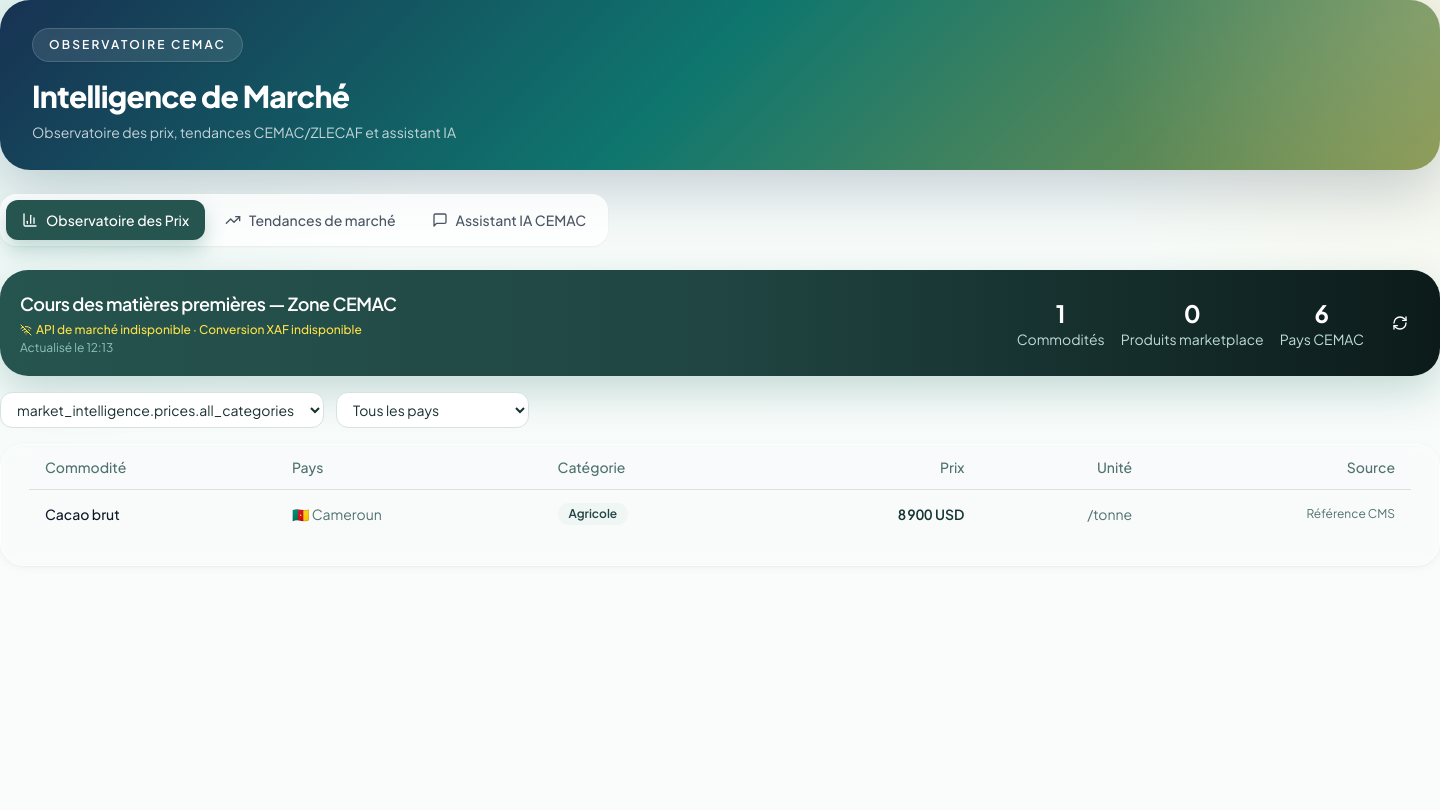
Test: MarketIntelligencePage — assistant tab › sends a message when clicking a suggestion
This screenshot has width=1440, height=810.
Click the button "Assistant IA CEMAC" at point(509, 220), box [416,200,602,240]
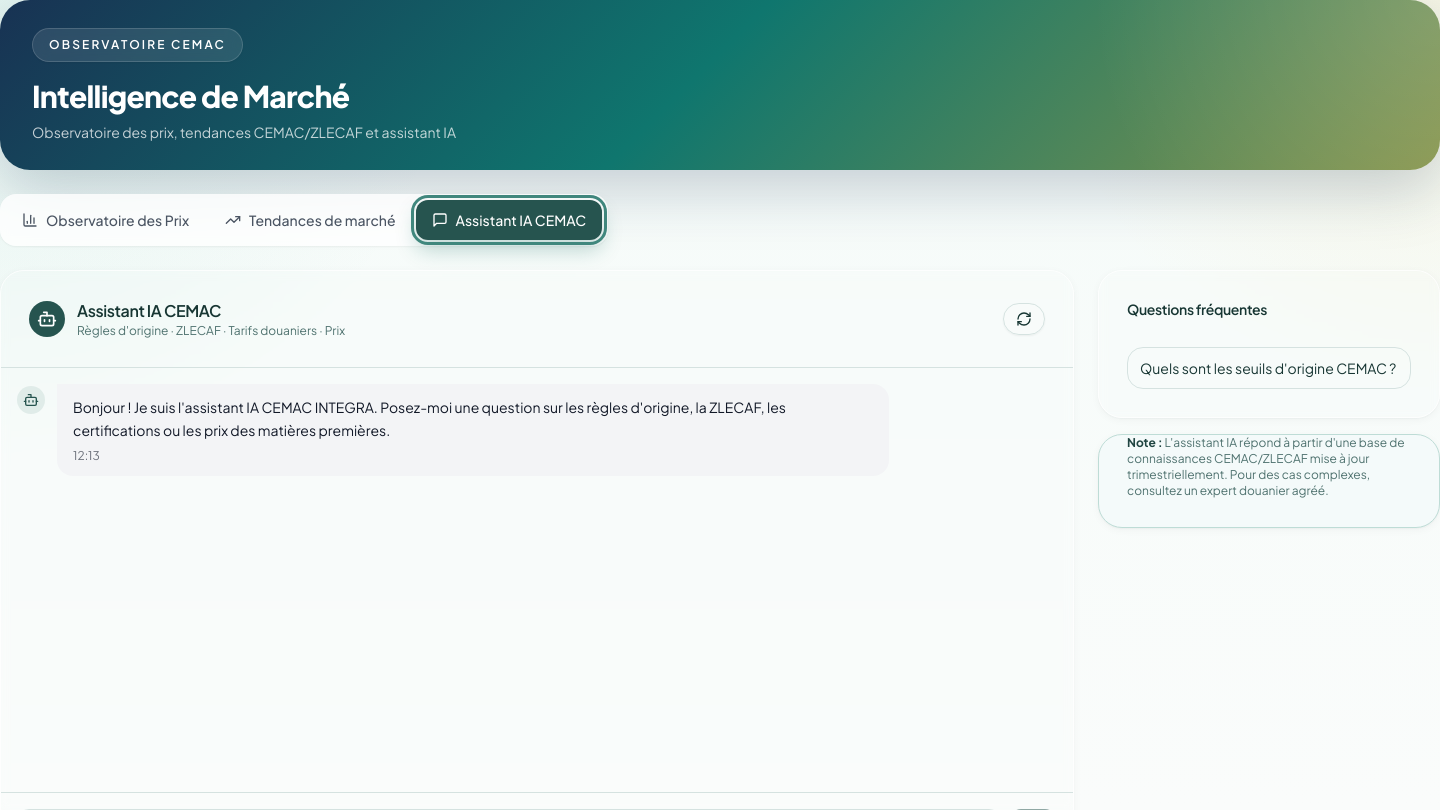
Click the button "Quels sont les seuils d'origine CEMAC ?" at point(1269, 368), box [1127,347,1411,389]
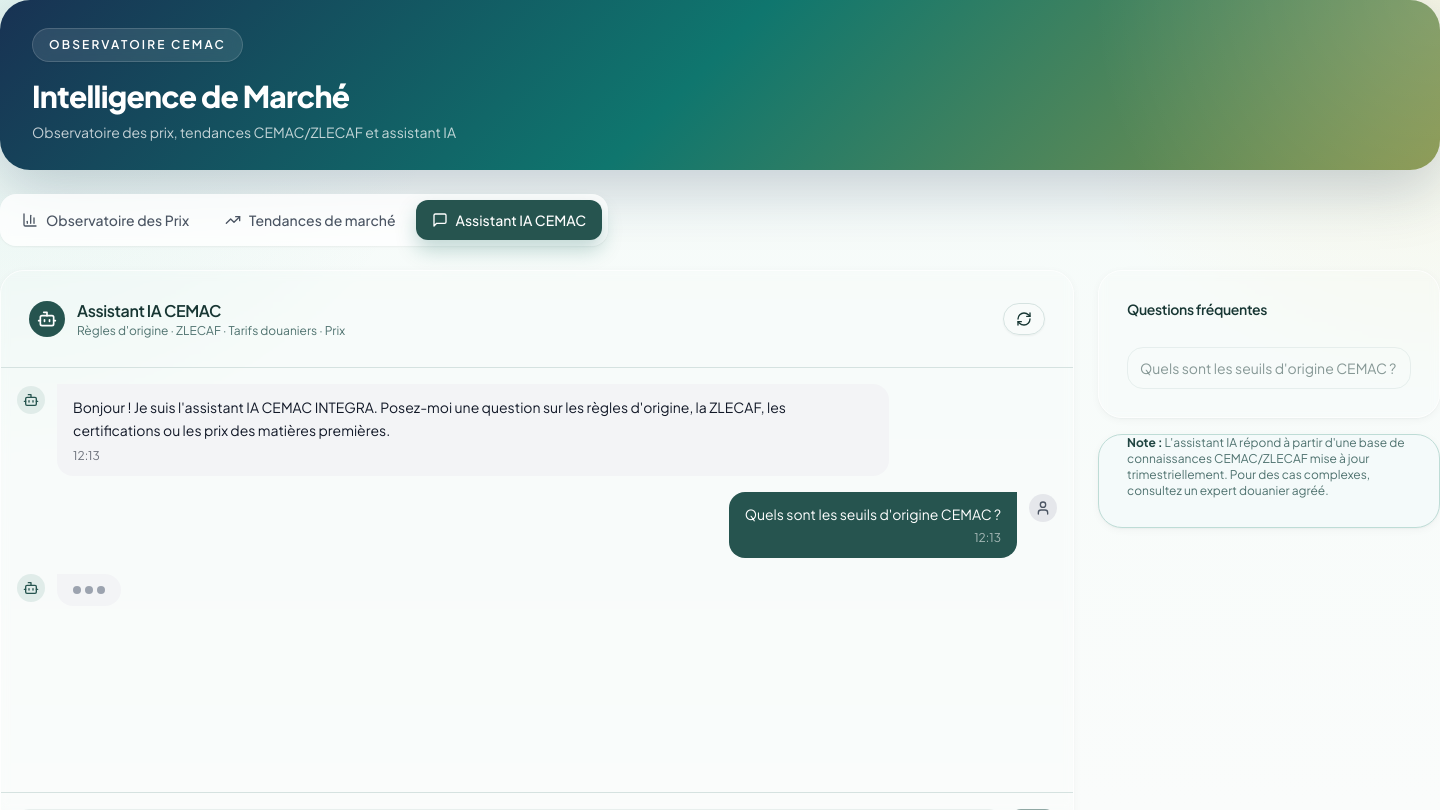
Expected: the text "Quels sont les seuils d'origine CEMAC ? 12:13" is shown 2 times, [729,492,1017,558]; [1127,347,1411,389]
